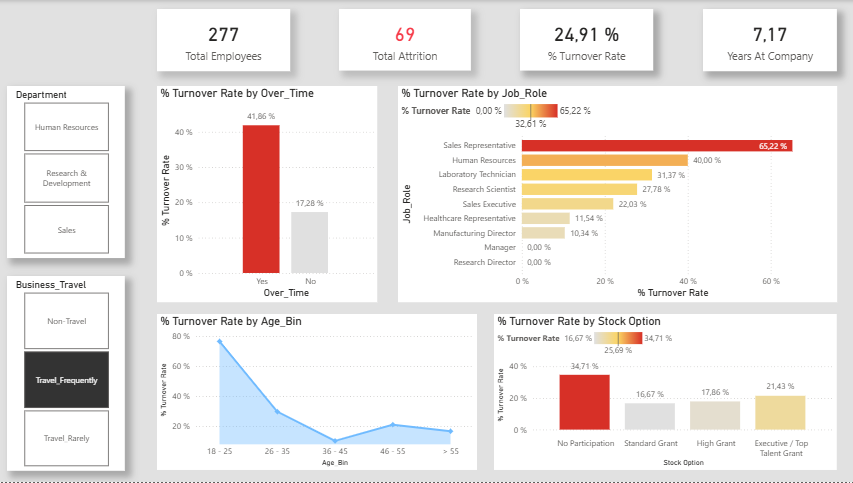

This screenshot's page, from the dashboard's own definition file:
{"tool":"powerbi","page":{"name":"Turnover analysis","canvas":[1280,720],"ordinal":1},"visuals":[{"type":"slicer","fields":{"Values":["Dim_JobDetails.Department"]},"box":[10.5,128.5,176.3,256.9],"z":0},{"type":"slicer","fields":{"Values":["Dim_JobDetails.Business_Travel"]},"box":[10.5,412.3,176.3,291.3],"z":1000},{"type":"card","fields":{"Values":["_Measures.% Turnover Rate"]},"box":[777.4,13.4,199.3,92.3],"z":2000,"group":"g1"},{"type":"card","fields":{"Values":["_Measures.Total Attrition"]},"box":[506.7,13.4,197.4,92.3],"z":3000,"group":"g1"},{"type":"card","fields":{"Values":["_Measures.Years At Company"]},"box":[1050,13.4,200.3,92.6],"z":4000,"group":"g1"},{"type":"card","title":"Total Empoyees","fields":{"Values":["_Measures.Total Employees"]},"box":[234.5,13.4,198.8,92.6],"z":5000,"group":"g1"},{"type":"clusteredColumnChart","title":"% Turnover Rate by Over_Time","fields":{"Category":["Dim_Satisfaction.Over_Time"],"Y":["_Measures.% Turnover Rate"]},"box":[234.5,128.5,328.6,322.7],"z":6000},{"type":"clusteredBarChart","title":"% Turnover Rate by Job_Role","fields":{"Category":["Dim_JobDetails.Job_Role"],"Y":["_Measures.% Turnover Rate"]},"box":[594.5,128.5,655.8,322.7],"z":7000},{"type":"areaChart","title":"% Turnover Rate by Age_Bin","fields":{"Category":["Dim_Employee.Age_Bin"],"Y":["_Measures.% Turnover Rate"]},"box":[234.5,469,478,233],"z":8000},{"type":"clusteredColumnChart","title":"% Turnover Rate by Stock Option","fields":{"Category":["Dim_PerformancePay.Stock_Option_Level_Description"],"Y":["_Measures.% Turnover Rate"]},"box":[737.9,469,512.4,233],"z":9000},{"type":"group","id":"g1","title":"Grupo 1","box":[234.5,13.4,1015.8,92.6],"z":9001}]}

Visuals, with their boxes in screenshot pixels (x1, y1, x2, y2), scaled from the page's 1280x720 canvas onto the 853x483 screenshot:
slicer - Dim_JobDetails.Department: left=7, top=86, right=124, bottom=259
slicer - Dim_JobDetails.Business_Travel: left=7, top=277, right=124, bottom=472
card - _Measures.% Turnover Rate: left=518, top=9, right=651, bottom=71
card - _Measures.Total Attrition: left=338, top=9, right=469, bottom=71
card - _Measures.Years At Company: left=700, top=9, right=833, bottom=71
"Total Empoyees" card: left=156, top=9, right=289, bottom=71
"% Turnover Rate by Over_Time" clusteredColumnChart: left=156, top=86, right=375, bottom=303
"% Turnover Rate by Job_Role" clusteredBarChart: left=396, top=86, right=833, bottom=303
"% Turnover Rate by Age_Bin" areaChart: left=156, top=315, right=475, bottom=471
"% Turnover Rate by Stock Option" clusteredColumnChart: left=492, top=315, right=833, bottom=471
"Grupo 1" group: left=156, top=9, right=833, bottom=71
